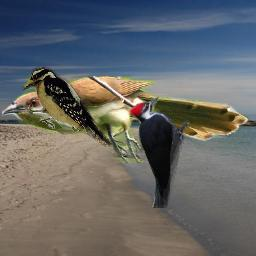Cuckoo: (2, 76, 249, 163)
Woodpecker: (22, 64, 112, 147), (127, 96, 190, 208)
